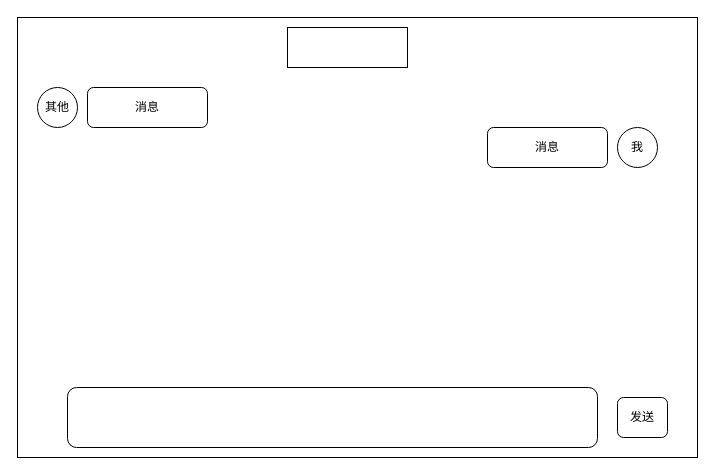
Image size: 715x475. Some labels were removed from this diagram. The shapes that lost their labels are listed below. From the top down, each one's centre as x and y in pixels, then its label:
(x=347, y=47): 对方的名字
(x=332, y=417): 输入框
